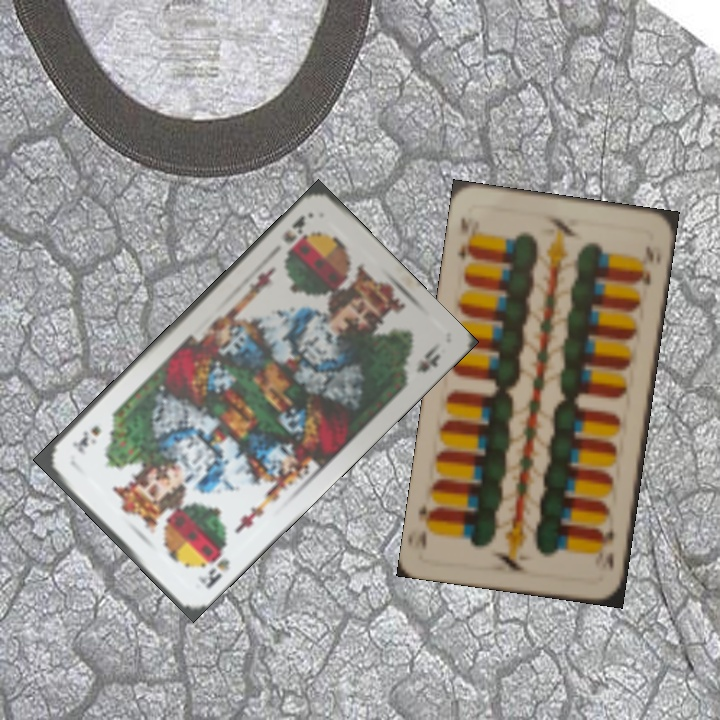E10: (453, 213, 478, 263), (597, 523, 617, 572)
SK: (194, 554, 233, 591), (278, 211, 308, 246)
